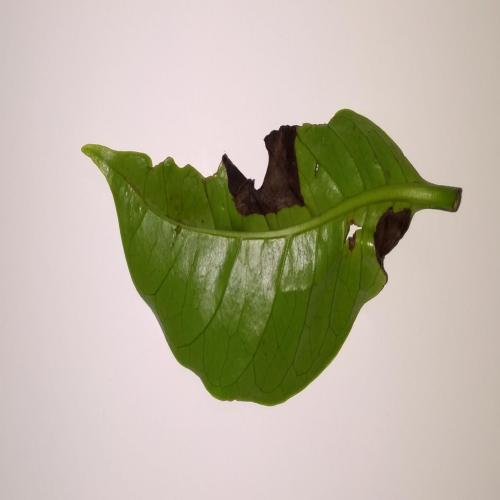miner: (221, 125, 303, 216)
